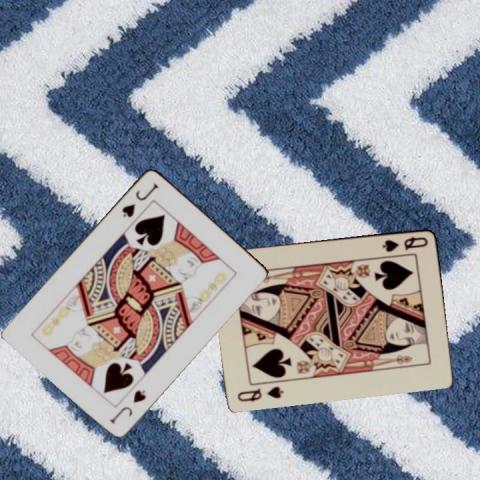Js: (118, 178, 161, 218), (107, 386, 148, 425)
Qs: (235, 382, 284, 403), (379, 233, 430, 253)
